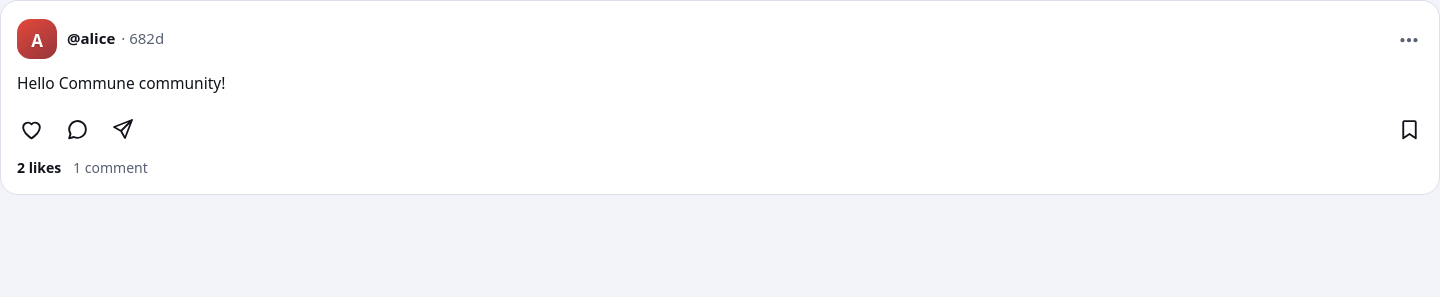
Test: PostCard sharing › copies the post link from the post menu
Click the button named "More options for the post by @alice" at [1409, 39], box x1=1387 y1=17 x2=1431 y2=61
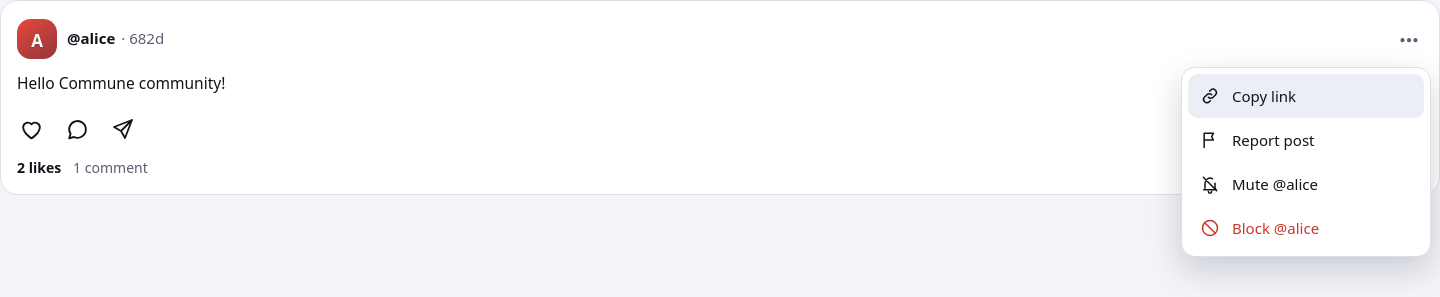
Click the menu item "Copy link" at [1306, 96], box x1=1188 y1=74 x2=1424 y2=118
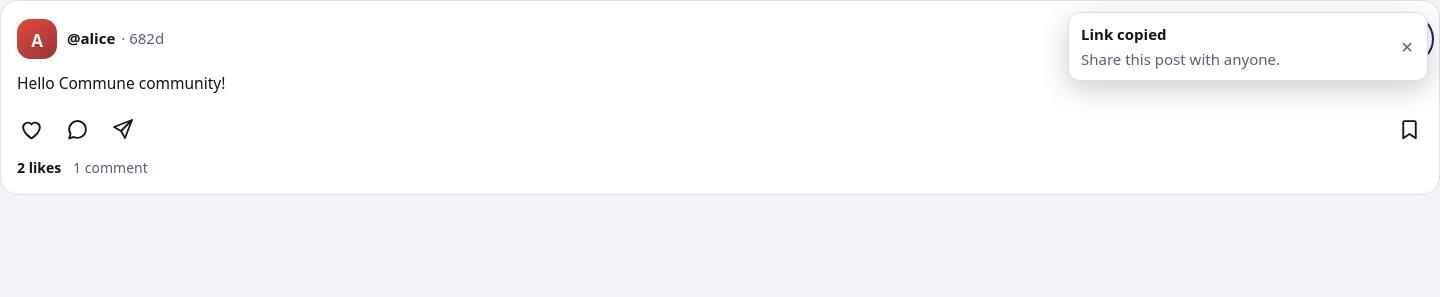
Expected: the message shows "Link copied", x1=1069 y1=13 x2=1387 y2=80
